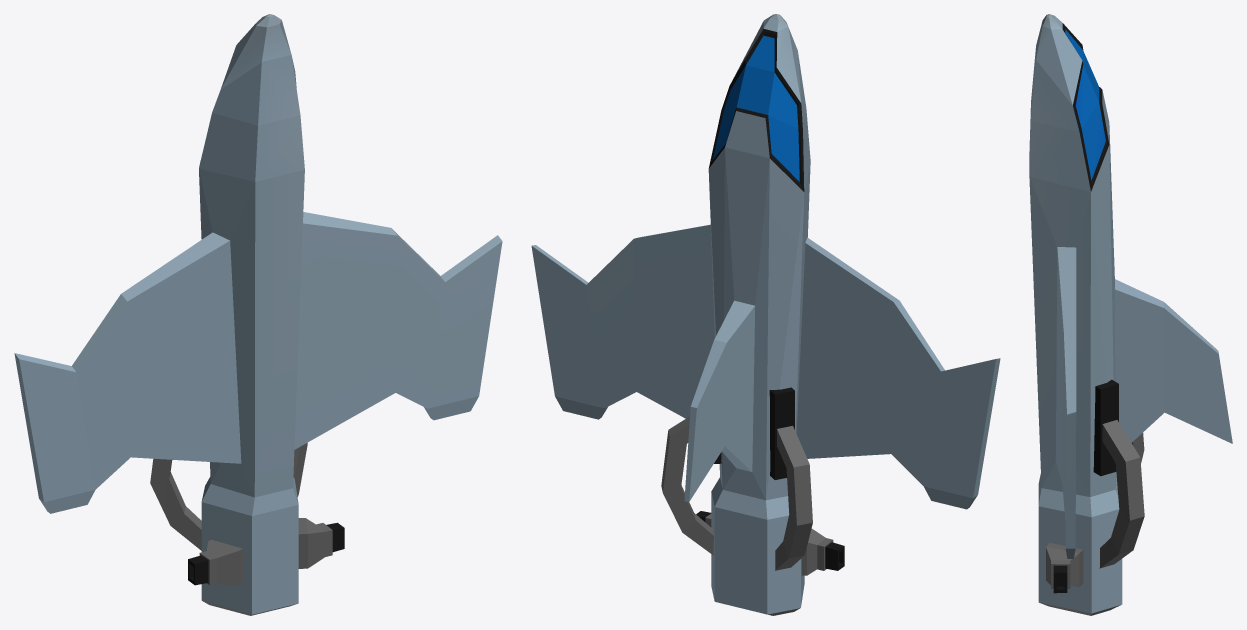
Rendered from spaceship.fbx.
The picture shows the model from 3 angles, left to right: view 1: azimuth 30°, elevation 25°; view 2: azimuth 150°, elevation 25°; view 3: azimuth 270°, elevation 25°; orthographic projection. The views are drawn at different scales.
Visible parts, largest first — view 1: Spaceship; view 2: Spaceship; view 3: Spaceship.
Boxes of the visible parts, x1,y1,x2,y2 form: Spaceship: (14, 14, 502, 615); Spaceship: (531, 14, 1000, 615); Spaceship: (1029, 14, 1232, 615).
Size of the model in its own units: 1681 by 1984 by 626.
